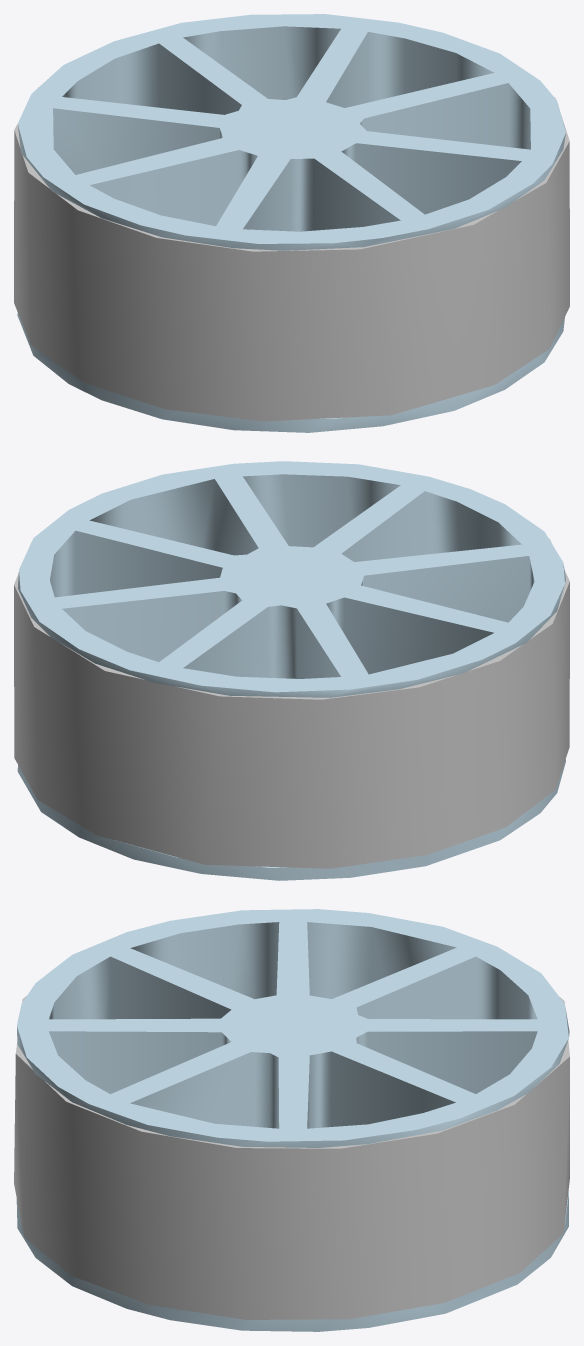
File: FourInBillet.fbx
The picture shows the model from 3 angles, top to bottom: view 1: azimuth 30°, elevation 25°; view 2: azimuth 150°, elevation 25°; view 3: azimuth 270°, elevation 25°; orthographic projection.
Parts seen in each view (by area): view 1: Part 1, Part 2; view 2: Part 1, Part 2; view 3: Part 1, Part 2.
Boxes of the visible parts, x1,y1,x2,y2 form: Part 1: (17,14,565,432); Part 2: (14,87,569,421); Part 1: (17,461,565,880); Part 2: (14,538,569,868); Part 1: (16,909,569,1331); Part 2: (14,996,569,1319).
Bounding box in the file's own units: 10.06 × 3.81 × 10.09.
